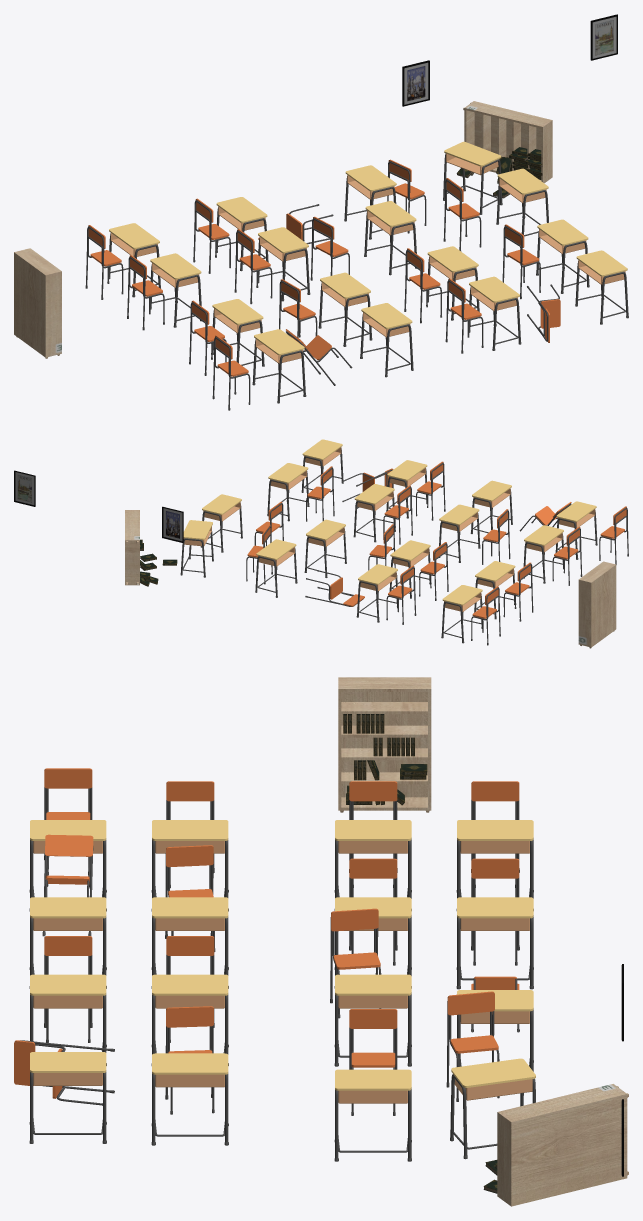
File: salon n6.fbx
The picture shows the model from 3 angles, top to bottom: view 1: azimuth 30°, elevation 25°; view 2: azimuth 150°, elevation 25°; view 3: azimuth 270°, elevation 25°; orthographic projection. The views are drawn at different scales.
Parts seen in each view (by area): view 1: Cube.007, Bookcase.009, Mesa N40.094, Mesa N40.089, Mesa N40.001, Mesa N40.087, Mesa N40.086, Mesa N40.090, Mesa N40.092, Mesa N40.088, Mesa N40.093, Mesa N40.028 (+23 smaller); view 2: Bookcase.009, Cube.007, Mesa N40.036, Mesa N40.092, Mesa N40.026, Mesa N40.091, Mesa N40.030, Mesa N40.086, Mesa N40.088, Mesa N40.094, Mesa N40.093, Mesa N40.087 (+24 smaller); view 3: Cube.007, Bookcase.009, Mesa N40.094, Mesa N40.088, Mesa N40.093, Mesa N40.089, Mesa N40.092, Mesa N40.030, Mesa N40.091, Mesa N40.090, Mesa N40.086, Mesa N40.087 (+21 smaller).
Boxes of the visible parts, x1,y1,x2,y2 form: Cube.007: [456, 101, 552, 198]; Bookcase.009: [14, 248, 61, 358]; Mesa N40.094: [443, 141, 502, 214]; Mesa N40.089: [575, 250, 628, 324]; Mesa N40.001: [252, 329, 306, 403]; Mesa N40.087: [360, 303, 413, 377]; Mesa N40.086: [318, 272, 372, 346]; Mesa N40.090: [469, 276, 521, 350]; Mesa N40.092: [364, 201, 416, 275]; Mesa N40.088: [536, 219, 589, 293]; Mesa N40.093: [496, 168, 548, 236]; Mesa N40.028: [258, 227, 310, 301]; Bookcase.009: [578, 561, 616, 648]; Cube.007: [125, 510, 177, 586]; Mesa N40.036: [255, 539, 297, 597]; Mesa N40.092: [304, 519, 346, 577]; Mesa N40.026: [441, 585, 482, 643]; Mesa N40.091: [353, 484, 395, 542]; Mesa N40.030: [356, 564, 397, 622]; Mesa N40.086: [439, 504, 480, 562]; Mesa N40.088: [267, 463, 309, 521]; Mesa N40.094: [180, 520, 213, 577]; Mesa N40.093: [200, 494, 242, 552]; Mesa N40.087: [470, 480, 512, 533]; Cube.007: [483, 1084, 628, 1206]; Bookcase.009: [338, 677, 431, 812]; Mesa N40.094: [450, 1058, 535, 1159]; Mesa N40.088: [151, 1053, 228, 1145]; Mesa N40.093: [334, 1069, 411, 1161]; Mesa N40.089: [29, 1052, 106, 1143]; Mesa N40.092: [334, 974, 411, 1066]; Mesa N40.030: [456, 897, 533, 989]; Mesa N40.091: [151, 974, 228, 1065]; Mesa N40.090: [30, 974, 106, 1065]; Mesa N40.086: [151, 897, 228, 988]; Mesa N40.087: [29, 897, 106, 988].
Size of the model in its own units: 1865 by 302 by 1008.
Materials: 9 (4 with a texture image).
